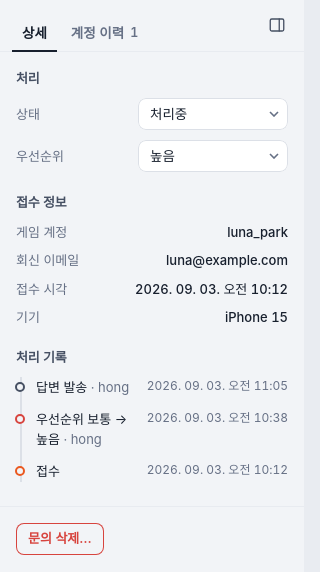
InboxDetailPanel › switches to the account history tab and shows the count
The image size is (320, 572).
Click the tab "계정 이력 1" at (104, 34), box x1=61 y1=16 x2=148 y2=52
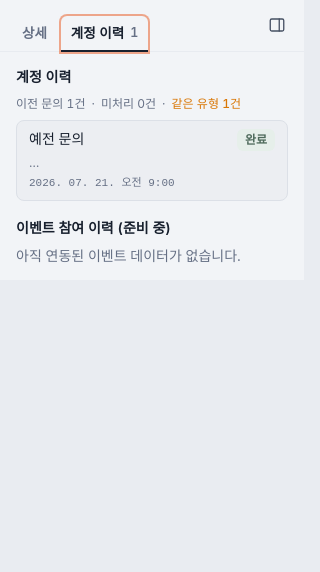
Now the heading "접수 정보" is gone
